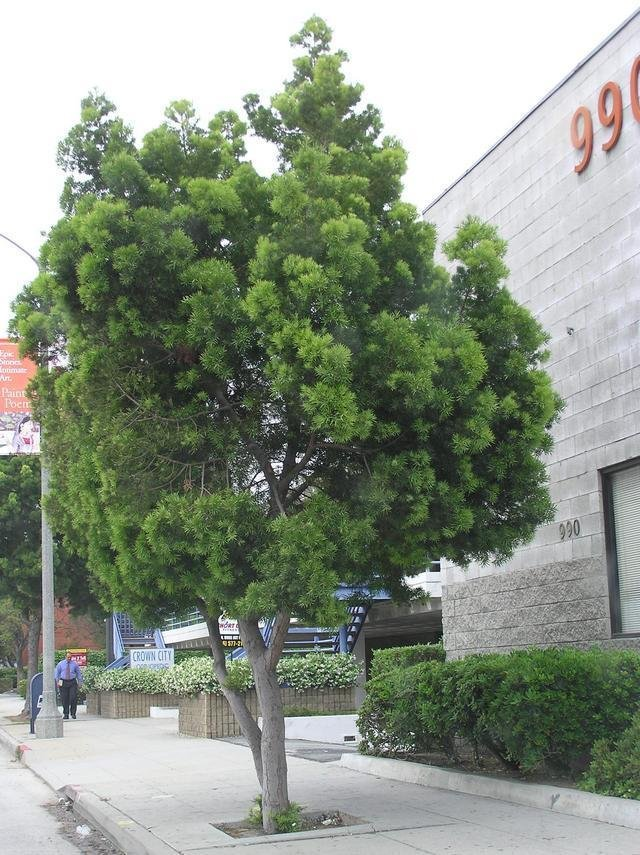tree: (6, 11, 567, 838)
